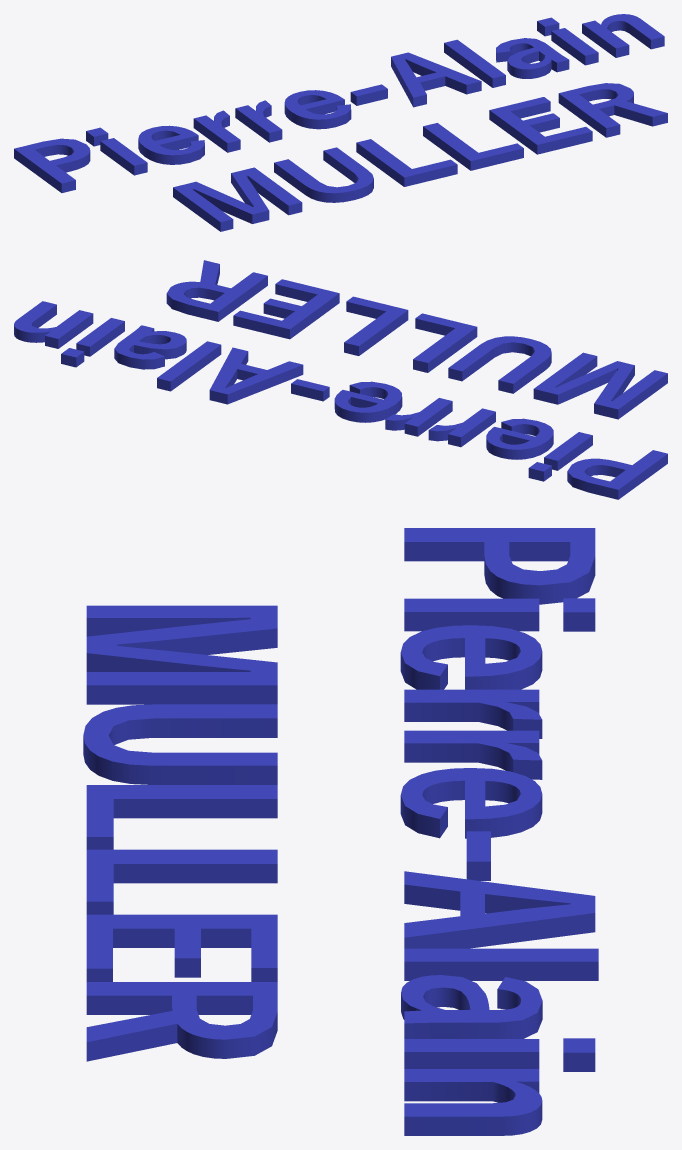
File: pierrealainmuller.fbx
3 renders of one model, top to bottom at view 1: azimuth 30°, elevation 25°; view 2: azimuth 150°, elevation 25°; view 3: azimuth 270°, elevation 25°, orthographic. The views are drawn at different scales.
Visible parts, largest first — view 1: node_id432 (×2); view 2: node_id432 (×2); view 3: node_id432 (×2).
Boxes of the visible parts, bbox=[...] form: node_id432 (×2): bbox=[14, 14, 667, 231]; node_id432 (×2): bbox=[14, 260, 667, 499]; node_id432 (×2): bbox=[83, 528, 598, 1135].
Bounding box in the file's own units: 1.22 × 0.0188 × 0.4526.
